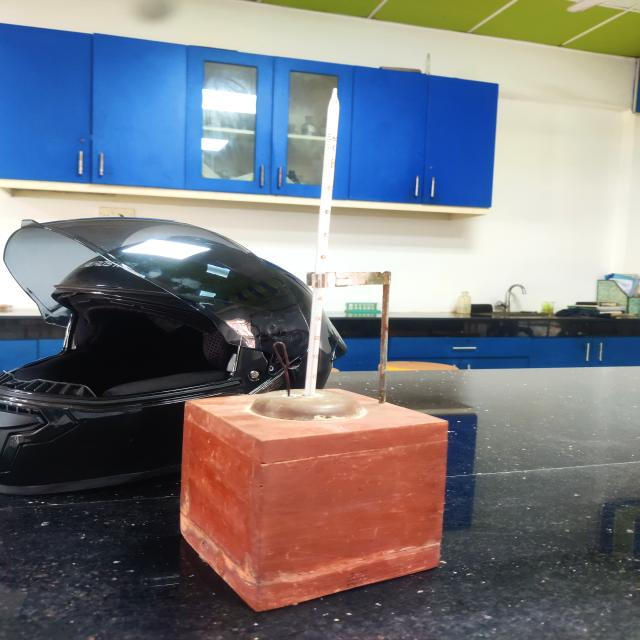Calorimeter: (156, 67, 461, 624)
